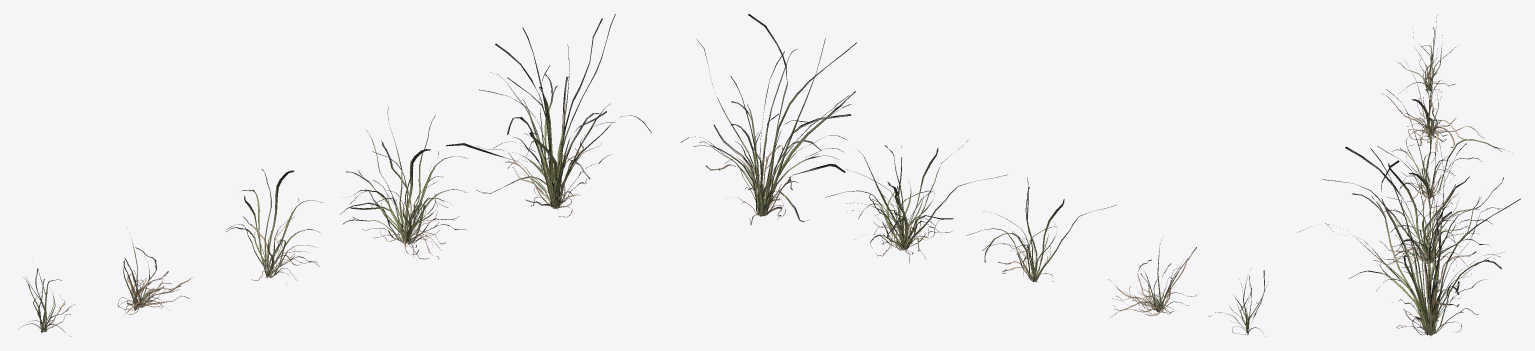
File: grass_medium_02_leaf.glb
The picture shows the model from 3 angles, left to right: view 1: azimuth 30°, elevation 25°; view 2: azimuth 150°, elevation 25°; view 3: azimuth 270°, elevation 25°; orthographic projection. The views are drawn at different scales.
Visible parts, largest first — view 1: grass_medium_02_e, grass_medium_02_d, grass_medium_02_c, grass_medium_02_b, grass_medium_02_a; view 2: grass_medium_02_e, grass_medium_02_d, grass_medium_02_c, grass_medium_02_b, grass_medium_02_a; view 3: grass_medium_02_e, grass_medium_02_d, grass_medium_02_c, grass_medium_02_b, grass_medium_02_a.
Boxes of the visible parts, <box> form: grass_medium_02_e: <box>446,14,651,217</box>; grass_medium_02_d: <box>340,107,467,259</box>; grass_medium_02_c: <box>226,169,322,280</box>; grass_medium_02_b: <box>117,238,192,315</box>; grass_medium_02_a: <box>19,268,74,336</box>; grass_medium_02_e: <box>680,14,856,224</box>; grass_medium_02_d: <box>825,140,1007,262</box>; grass_medium_02_c: <box>966,177,1116,281</box>; grass_medium_02_b: <box>1108,236,1197,317</box>; grass_medium_02_a: <box>1209,269,1268,334</box>; grass_medium_02_e: <box>1297,142,1520,335</box>; grass_medium_02_d: <box>1323,143,1509,274</box>; grass_medium_02_c: <box>1386,89,1512,215</box>; grass_medium_02_b: <box>1382,48,1484,151</box>; grass_medium_02_a: <box>1398,15,1455,92</box>.
Bounding box in the file's own units: 1.31 × 0.4053 × 0.4332.
Materials: 1 (1 with a texture image).
